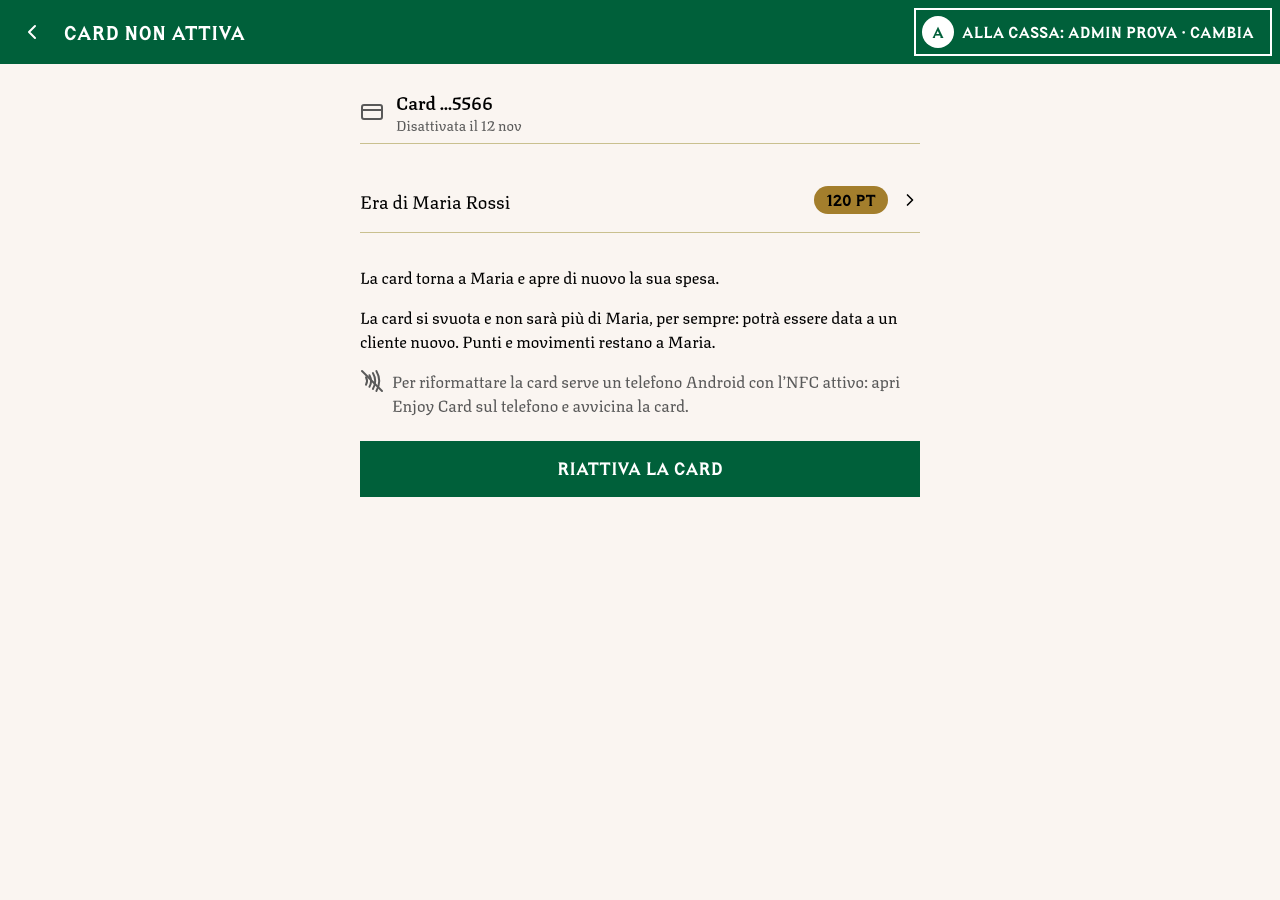
it: «Card non attiva» from the USB reader of the till (SPEC-customers-v2, criterion 12) › Riattiva, confirmed: the customer page in place of this one, «Link non scritto.»
Click the button "Riattiva la card". click: [640, 469]
box: [360,441,920,497]
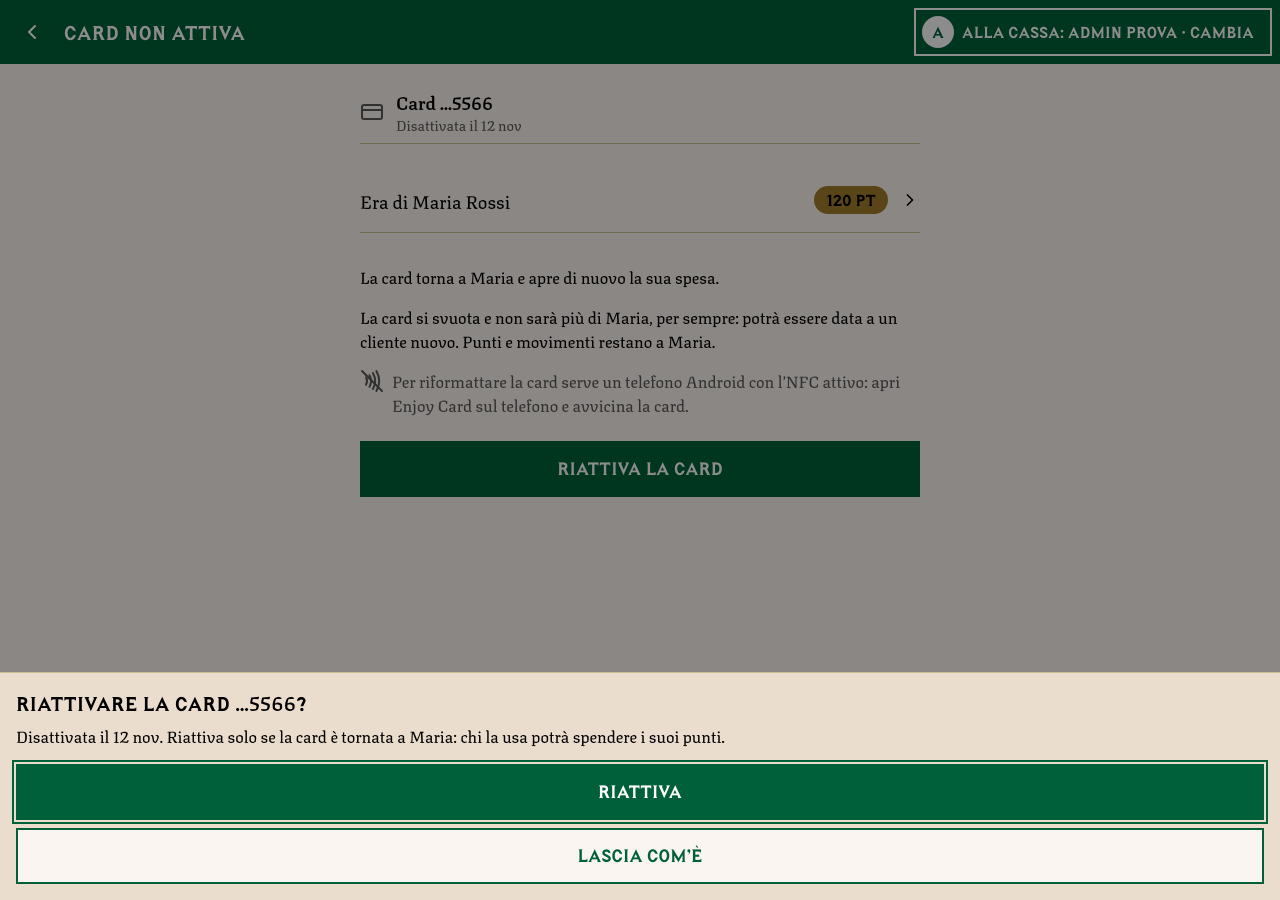
Click the button "Riattiva". click: [640, 792]
box: [16,764,1264,820]
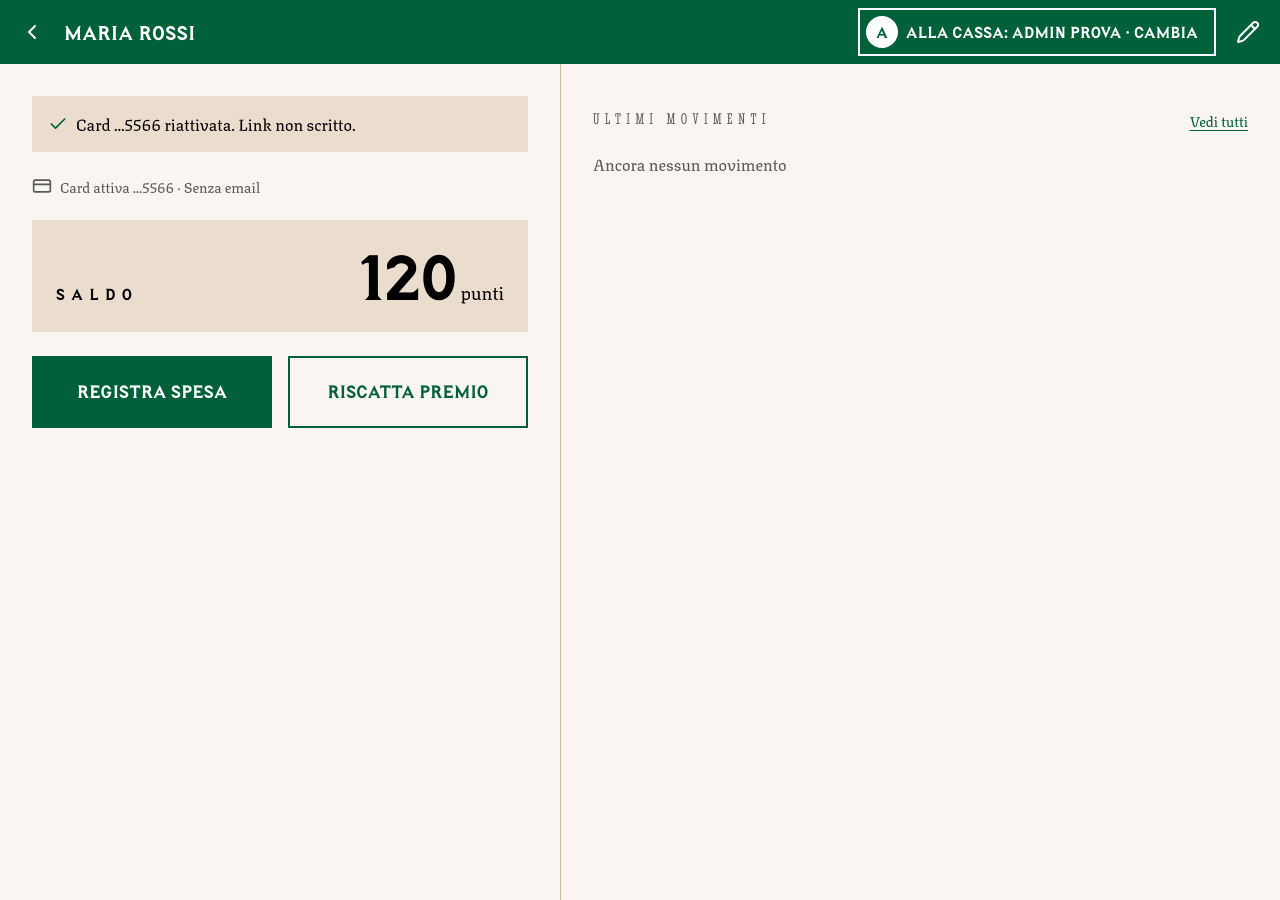
Now the element showing "Card …5566 riattivata. Link non scritto." is shown, box [32,96,528,152]
